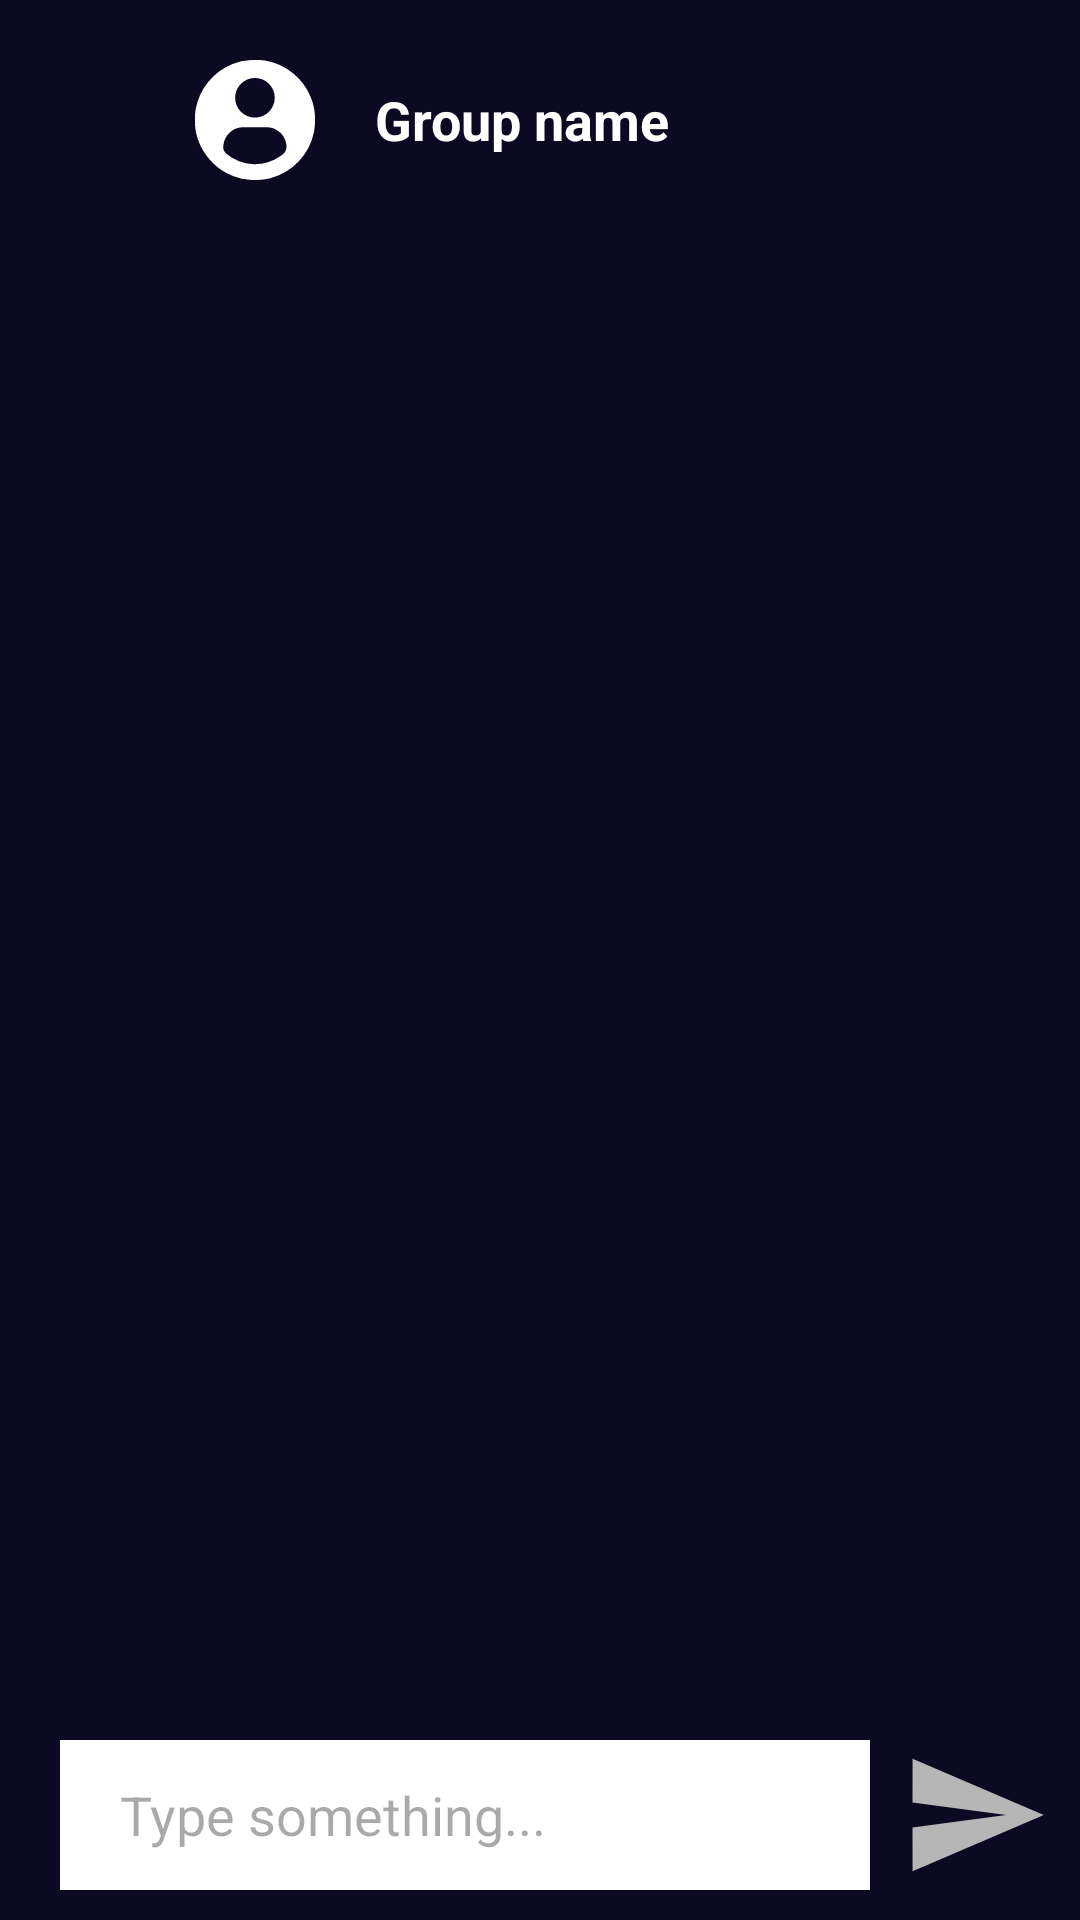

Where to tap for icons on this 1080*1920 app screen, as (x=x, y=y):
send: (x=977, y=1815)
